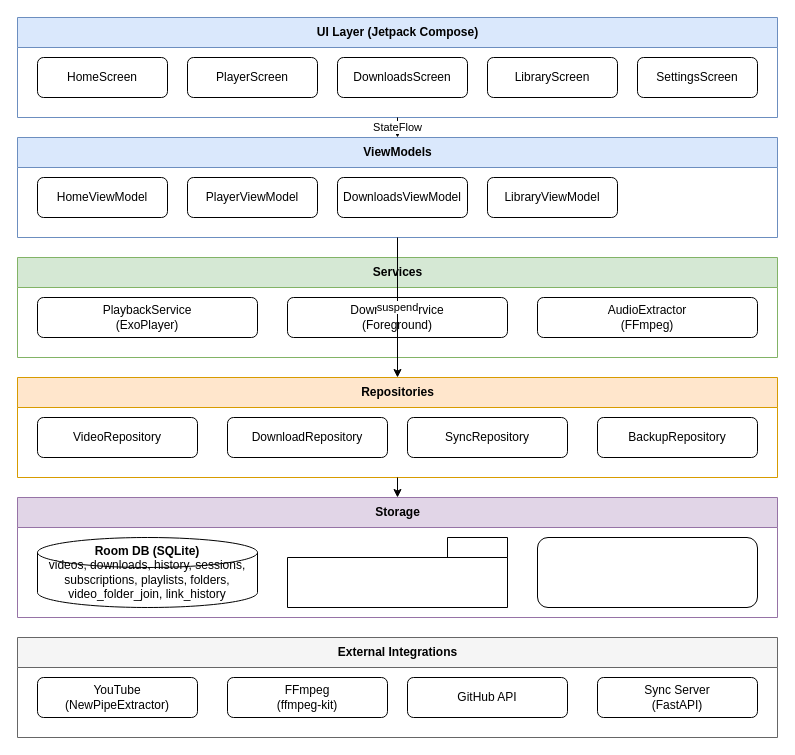
The diagram is 795 pixels wide and 755 high, and some of its shapes have lost their labels. Each missing label, with the centre of its shape:
DataStore Preferences: pixel 647 572
File System Media Files (.mp4, .m4a): pixel 397 572
